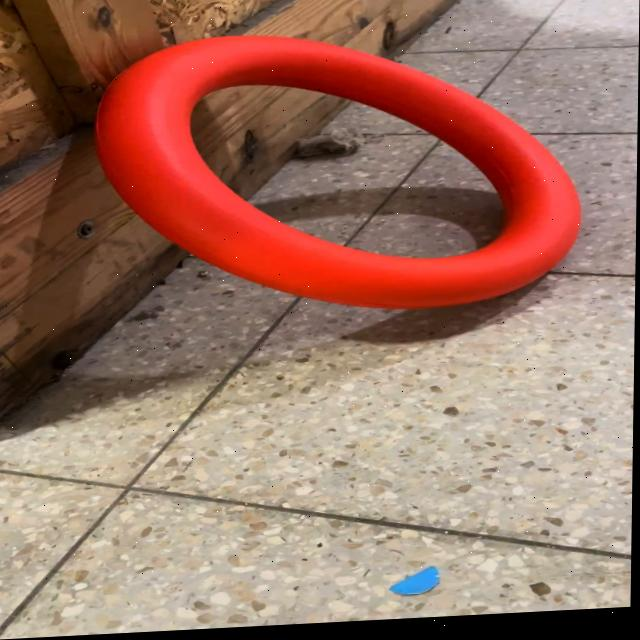note: (90, 22, 588, 330)
